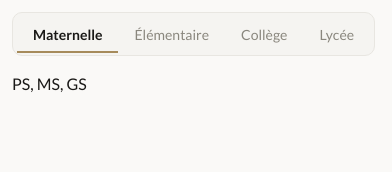
Test: Tabs › Real-world use cases › renders academic level tabs
expect the text "PS, MS, GS" is shown: met, box [12,74,87,93]
What coordinates should you click on to do the following:
click the tab "Collège"
I would click on:
 (264, 34)
Its box is [225,16,303,52].
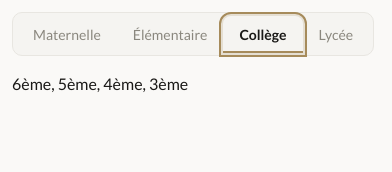
expect the text "6ème, 5ème, 4ème, 3ème" is shown: met, box [12,74,188,93]
